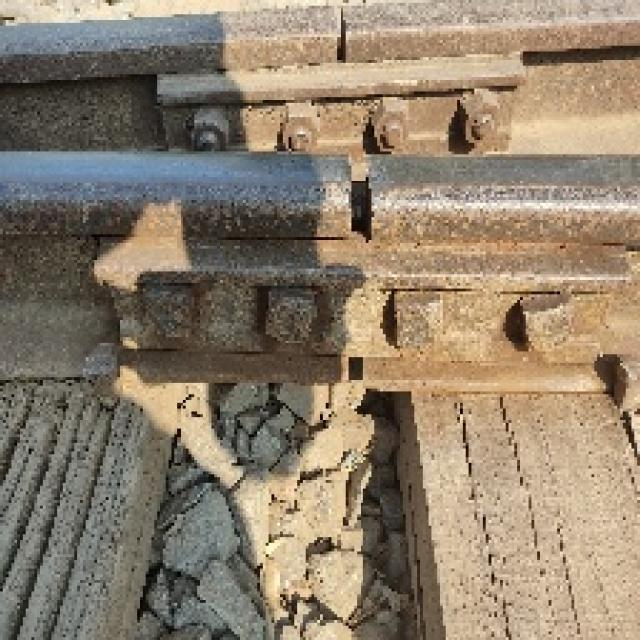Good Joint: (98, 238, 636, 366), (160, 48, 516, 155)
